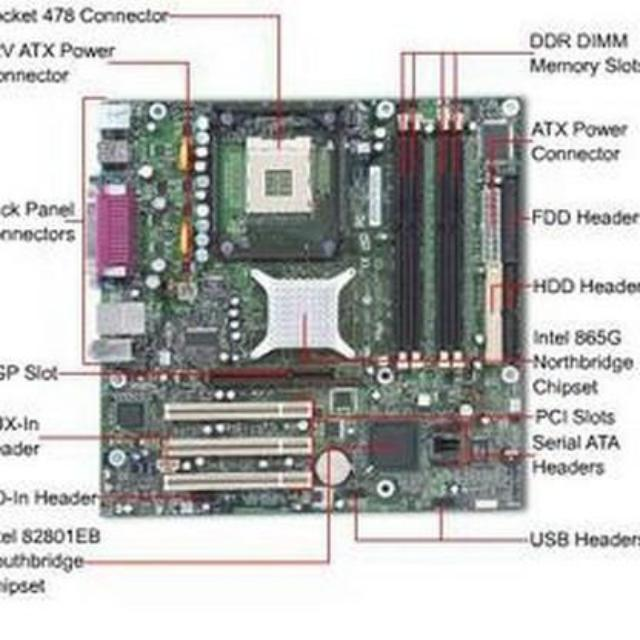Mainboard: (93, 88, 533, 518)
